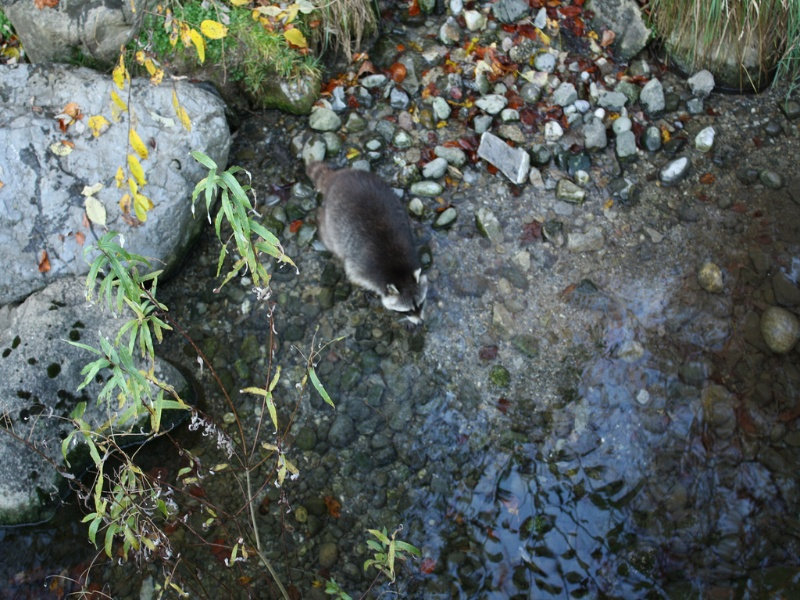raccoon: (292, 144, 437, 328)
